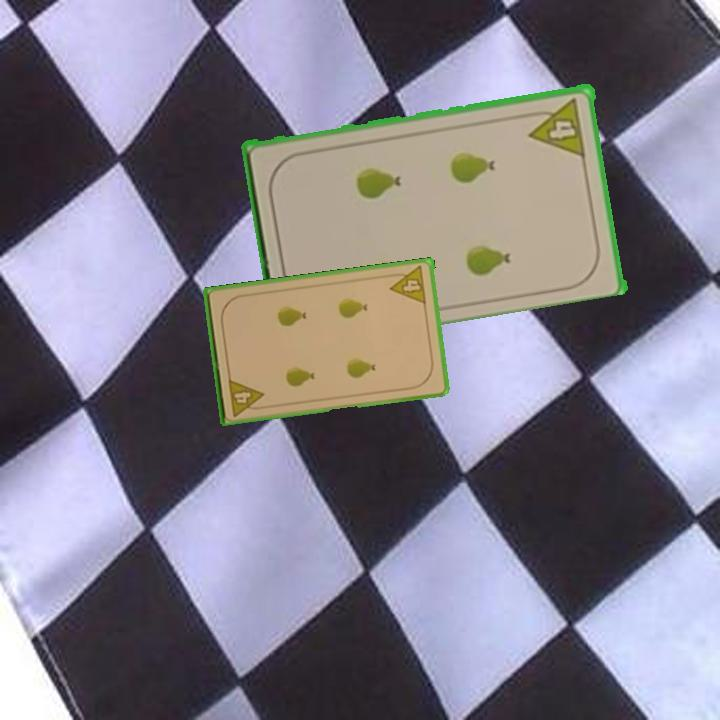4p: (524, 94, 588, 159), (386, 263, 430, 307), (225, 375, 268, 419)
